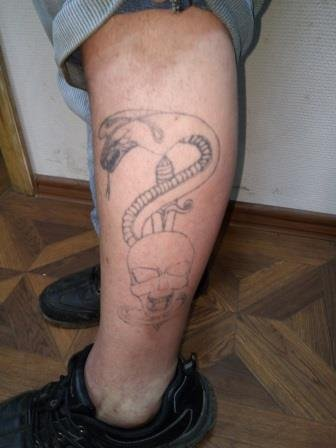tatu7_zmeya: (96, 97, 218, 252)
